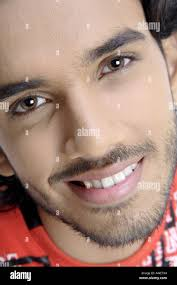e.brown: (20, 94, 40, 112)
